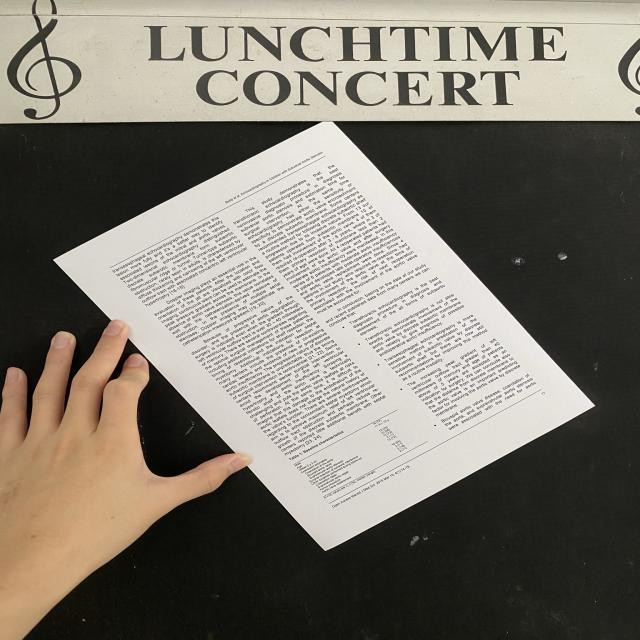kertas: (55, 58, 594, 608)
